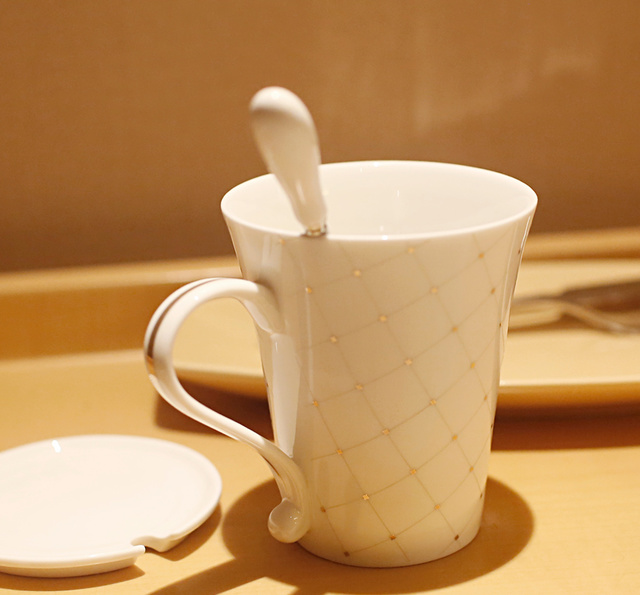cup: (134, 159, 543, 577)
